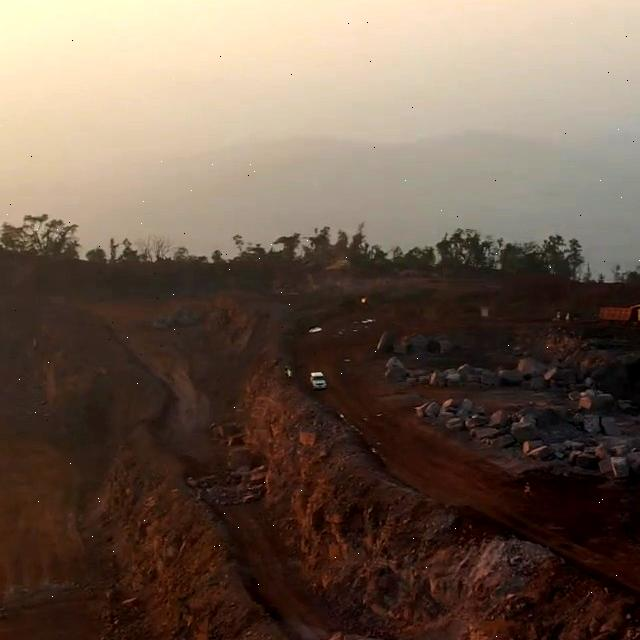Dumper truck: (605, 304, 640, 326)
car: (311, 371, 328, 390)
person: (284, 365, 297, 379), (525, 479, 533, 498)
